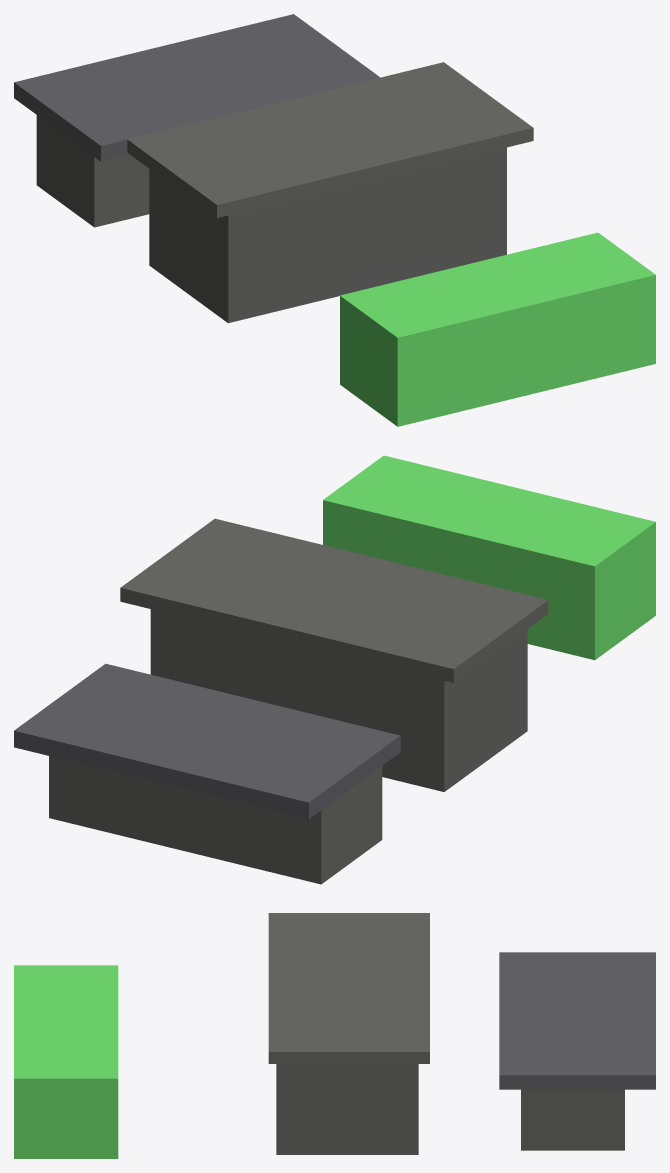
Rendered from CcitPuntodFIN.glb.
3 renders of one model, top to bottom at view 1: azimuth 30°, elevation 25°; view 2: azimuth 150°, elevation 25°; view 3: azimuth 270°, elevation 25°, orthographic. The views are drawn at different scales.
Parts seen in each view (by area): view 1: Cube, Cube.001, Cube.002, Cube.004, Cube.003; view 2: Cube, Cube.002, Cube.004, Cube.001, Cube.003; view 3: Cube.002, Cube.004, Cube, Cube.001, Cube.003.
Boxes of the visible parts, x1,y1,x2,y2 form: Cube: (340,232,655,426); Cube.001: (149,147,506,323); Cube.002: (127,62,533,217); Cube.004: (14,14,379,161); Cube.003: (36,115,149,227); Cube: (323,455,655,660); Cube.002: (120,518,548,682); Cube.004: (14,663,400,819); Cube.001: (150,609,527,791); Cube.003: (49,756,382,884); Cube.002: (268,913,429,1063); Cube.004: (499,952,655,1089); Cube: (14,965,118,1158); Cube.001: (276,1064,418,1154); Cube.003: (521,1089,624,1150).
Bounding box in the file's own units: 3.55 × 1.39 × 6.93.
